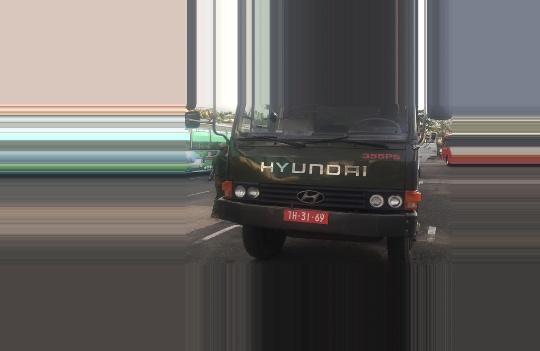plate: (283, 207, 330, 225)
